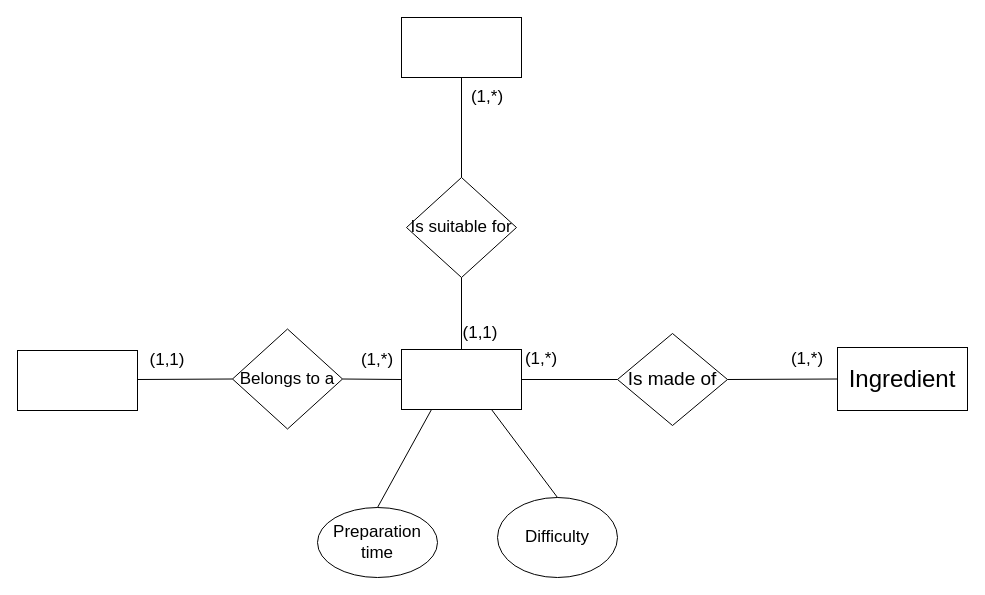
Some shapes in this 985 by 595 pixel diagram are drawn without their labels. Here are the shapes that lost their labels. From the top down, the box of each, then its label:
(400, 16, 522, 78): Occasion
(16, 350, 138, 410): Category
(400, 348, 522, 410): Dish
